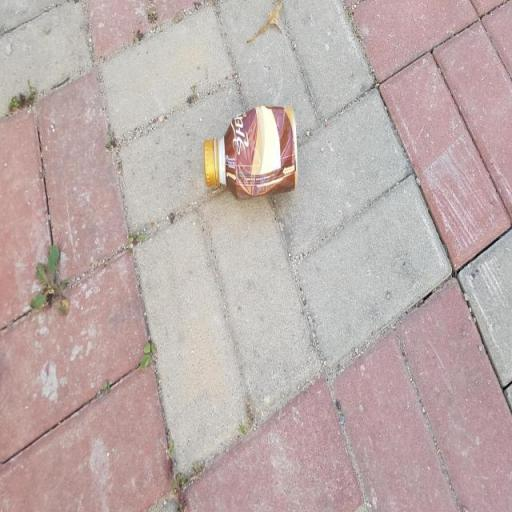metal: (198, 98, 320, 224)
